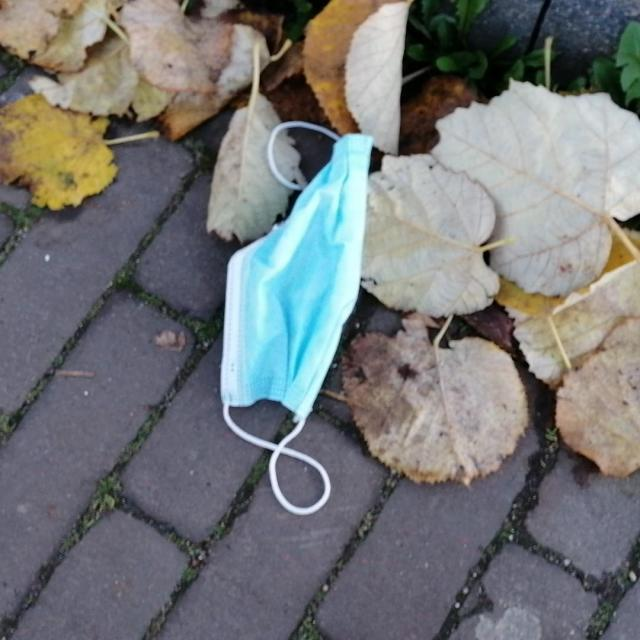Mask: (217, 118, 376, 518)
